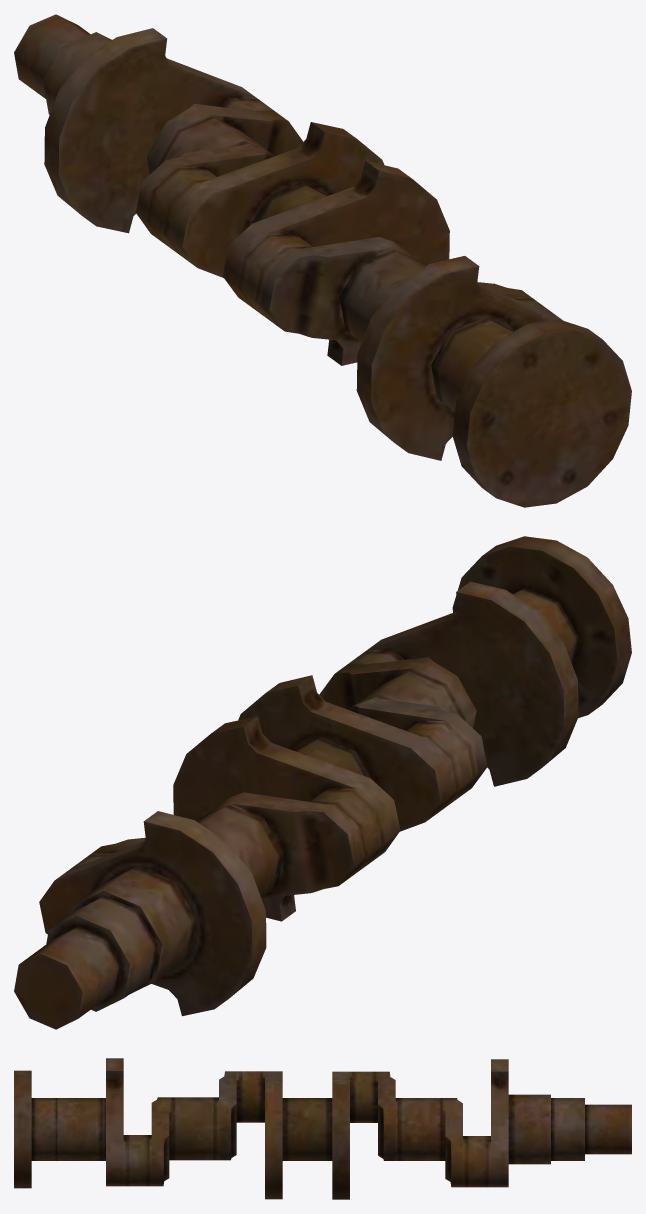
File: crankshaft1.worldmodel.glb
3 views of the same model, one above another, from view 1: azimuth 30°, elevation 25°; view 2: azimuth 150°, elevation 25°; view 3: azimuth 270°, elevation 25° (orthographic). The views are drawn at different scales.
Parts seen in each view (by area): view 1: LOD0; view 2: LOD0; view 3: LOD0.
Part boxes in pixels (x1=…): LOD0: x1=14, y1=14, x2=631, y2=507; LOD0: x1=14, y1=536, x2=631, y2=1029; LOD0: x1=14, y1=1058, x2=631, y2=1199.
Size of what is drawn, in the model's own units: 0.106 by 0.0898 by 0.4212.
Materials: 1 (1 with a texture image).
